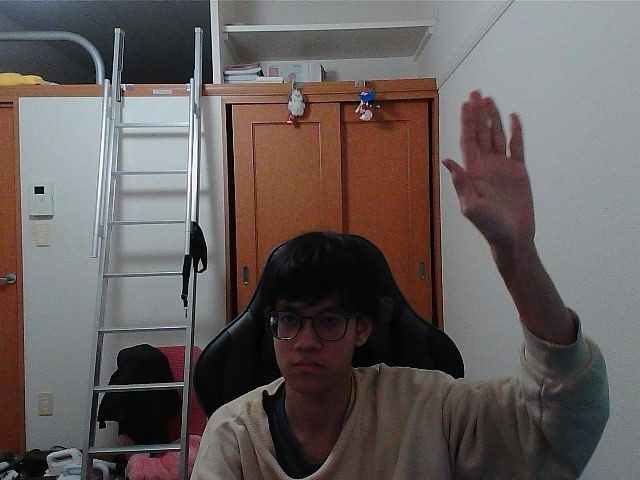open_palm: (451, 97, 518, 236)
